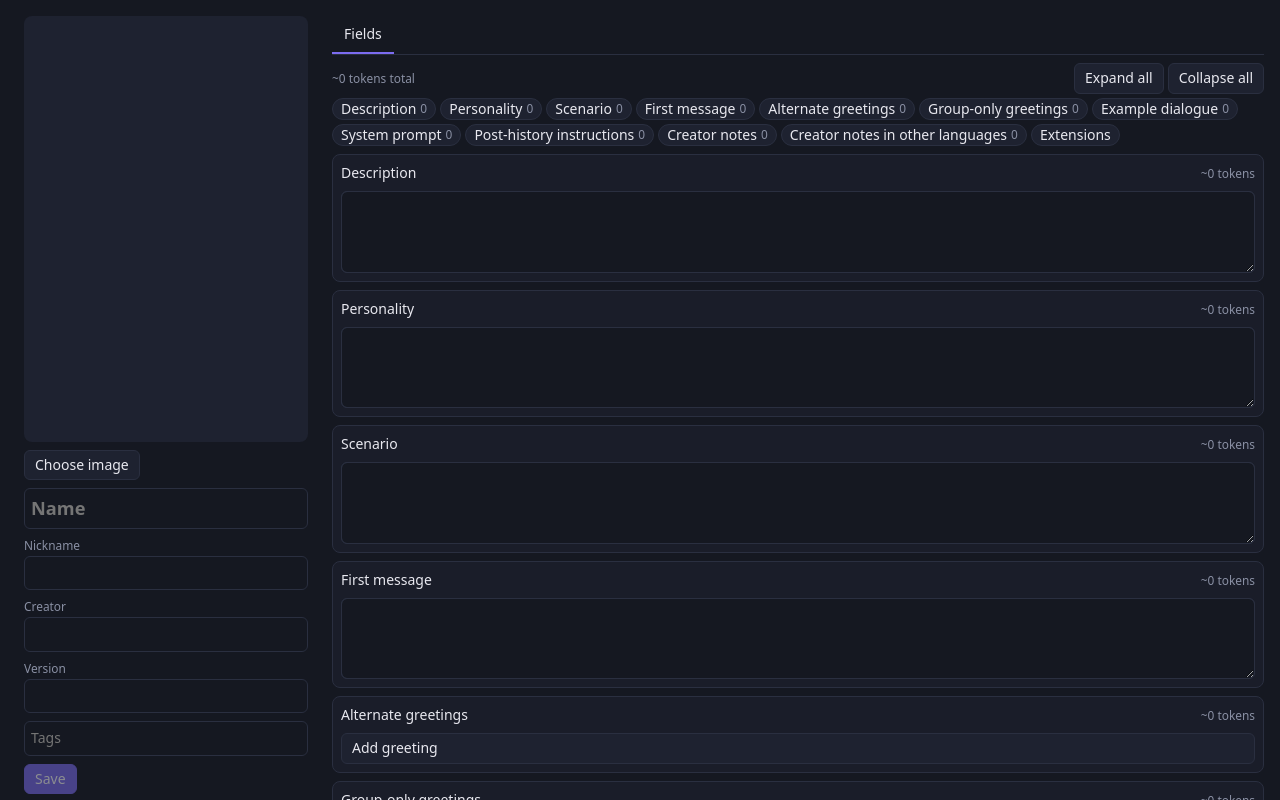
Scenario: a failed save keeps the draft and stays on the new card
Type "Brakka" into the field labelled "Name" at (166, 508), box top-left (24, 488), bottom-right (308, 529)
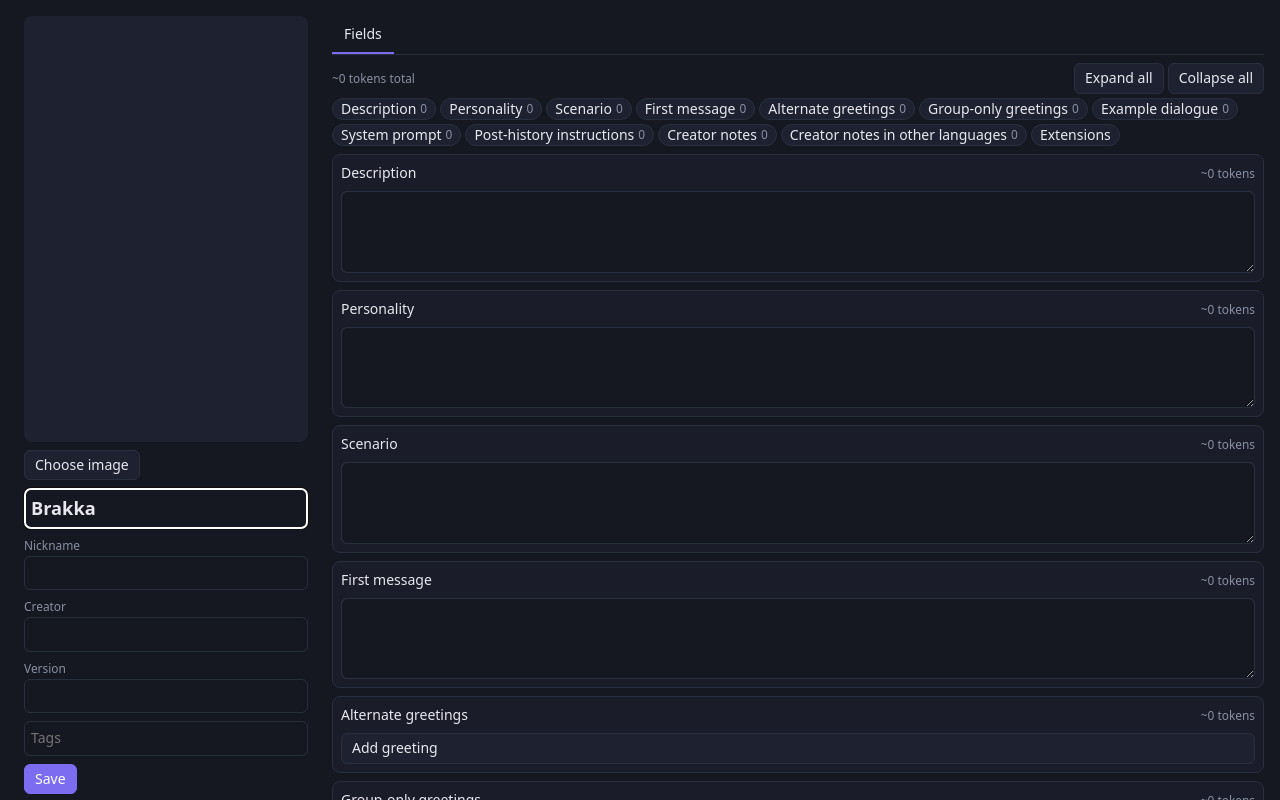
Click the button "Save" at (50, 779), box top-left (24, 764), bottom-right (77, 794)
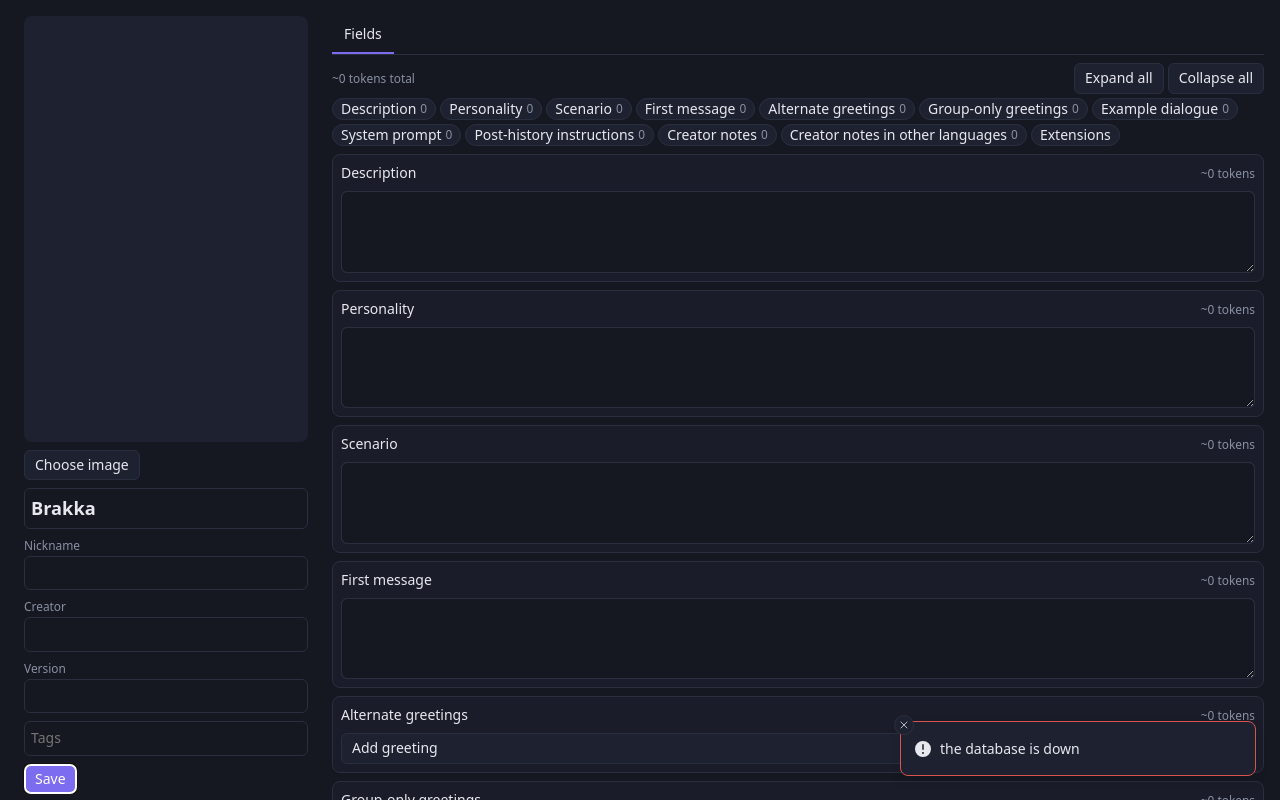
expect the field named "Name" is enabled: met, box top-left (24, 488), bottom-right (308, 529)
expect the text "the database is down" is shown: met, box top-left (940, 738), bottom-right (1080, 759)
